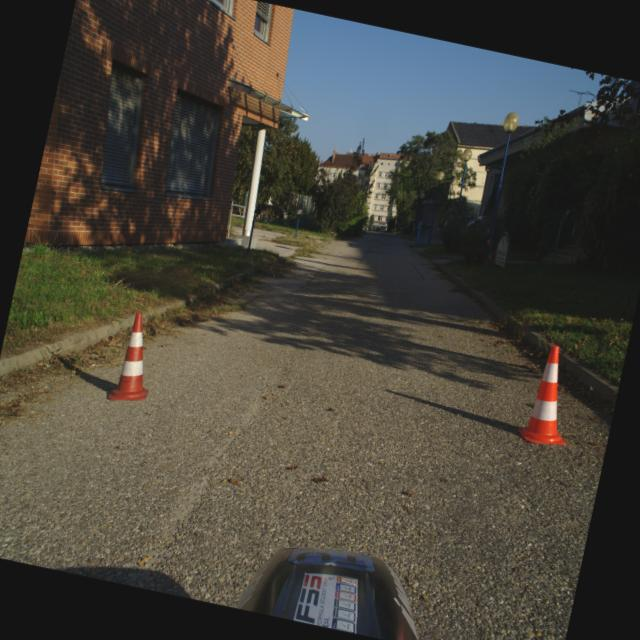large_orange_cone: (515, 341, 585, 449), (107, 309, 164, 407)
